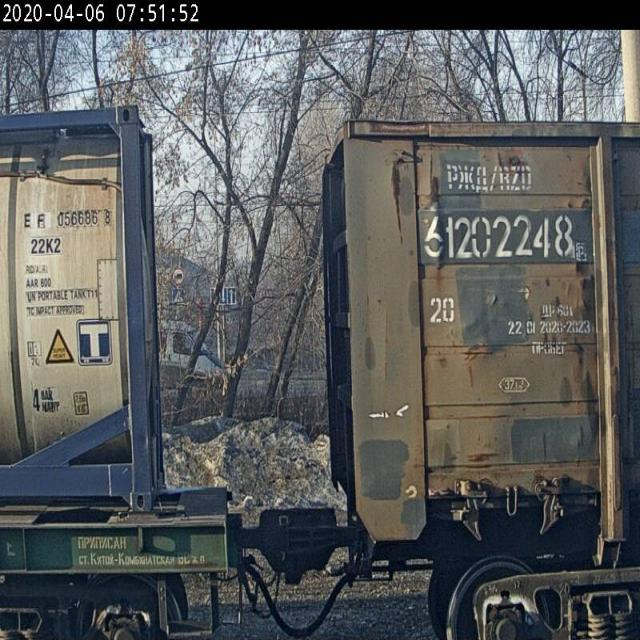flatcar: (0, 482, 244, 640)
gondola: (319, 99, 640, 640)
tank: (0, 92, 169, 519)
